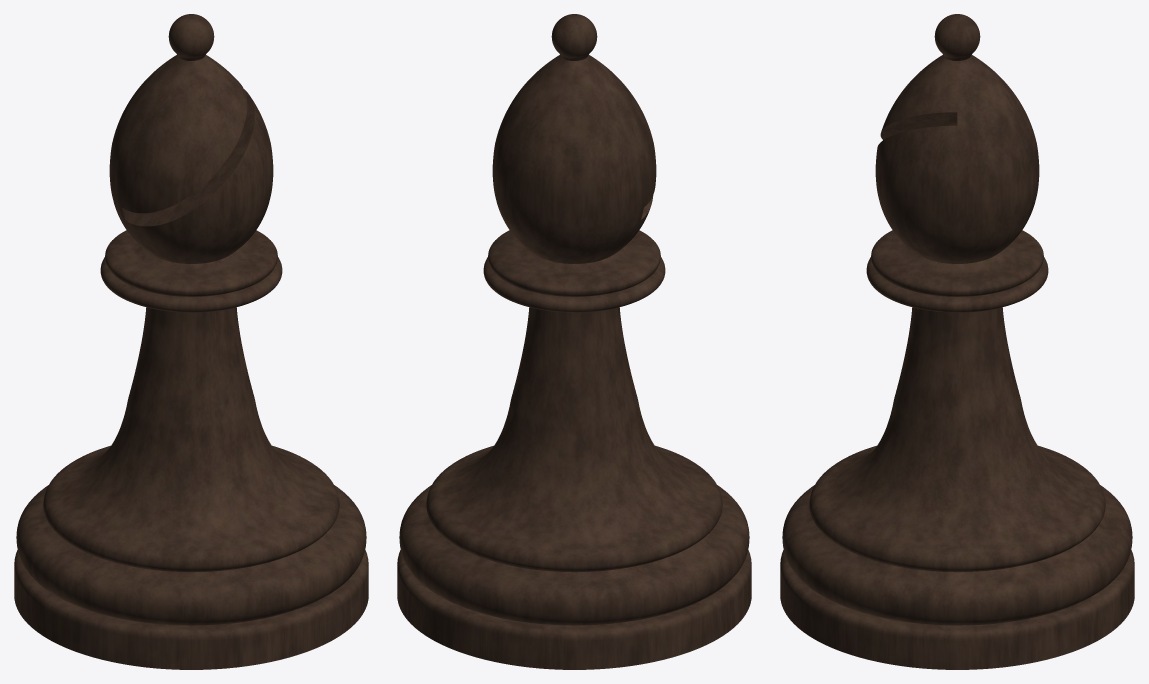
File: laeufer_schwarz.glb
The picture shows the model from 3 angles, left to right: view 1: azimuth 30°, elevation 25°; view 2: azimuth 150°, elevation 25°; view 3: azimuth 270°, elevation 25°; orthographic projection.
Visible parts, largest first — view 1: laeufer_schwarz; view 2: laeufer_schwarz; view 3: laeufer_schwarz.
Part boxes in pixels (x1=…): laeufer_schwarz: x1=14, y1=14, x2=368, y2=669; laeufer_schwarz: x1=397, y1=14, x2=751, y2=669; laeufer_schwarz: x1=780, y1=14, x2=1134, y2=669.
Bounding box in the file's own units: 0.78 × 1.4 × 0.78.
Materials: 1 (1 with a texture image).
